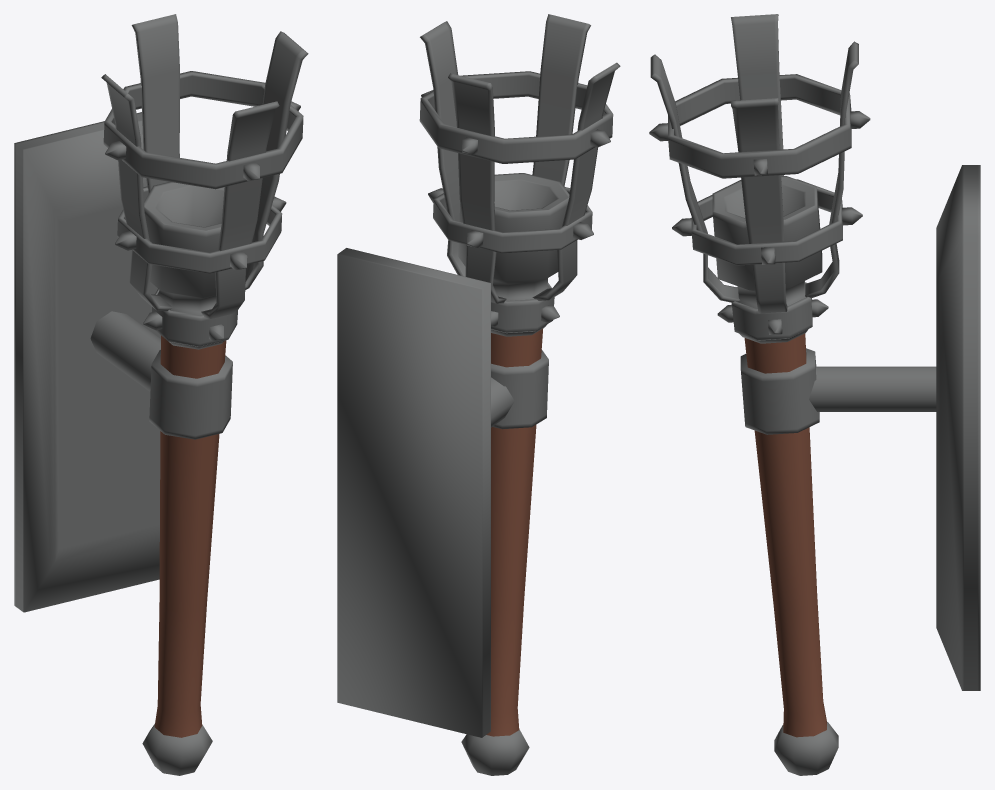
Rendered from Wall Torch.fbx.
3 renders of one model, left to right at view 1: azimuth 30°, elevation 25°; view 2: azimuth 150°, elevation 25°; view 3: azimuth 270°, elevation 25°, orthographic. The views are drawn at different scales.
Parts seen in each view (by area): view 1: Torch Wall Mount, Torch Metal, Torch Wood Handle; view 2: Torch Wall Mount, Torch Metal, Torch Wood Handle; view 3: Torch Metal, Torch Wall Mount, Torch Wood Handle.
Part boxes in pixels (x1=…): Torch Wall Mount: x1=14, y1=112, x2=232, y2=612; Torch Metal: x1=101, y1=14, x2=308, y2=775; Torch Wood Handle: x1=154, y1=335, x2=226, y2=737; Torch Wall Mount: x1=337, y1=248, x2=548, y2=737; Torch Metal: x1=419, y1=14, x2=620, y2=775; Torch Wood Handle: x1=486, y1=328, x2=543, y2=736; Torch Metal: x1=649, y1=14, x2=870, y2=775; Torch Wall Mount: x1=740, y1=165, x2=980, y2=690; Torch Wood Handle: x1=744, y1=333, x2=826, y2=737.
Bounding box in the file's own units: 27.55 × 18.4 × 66.04.
